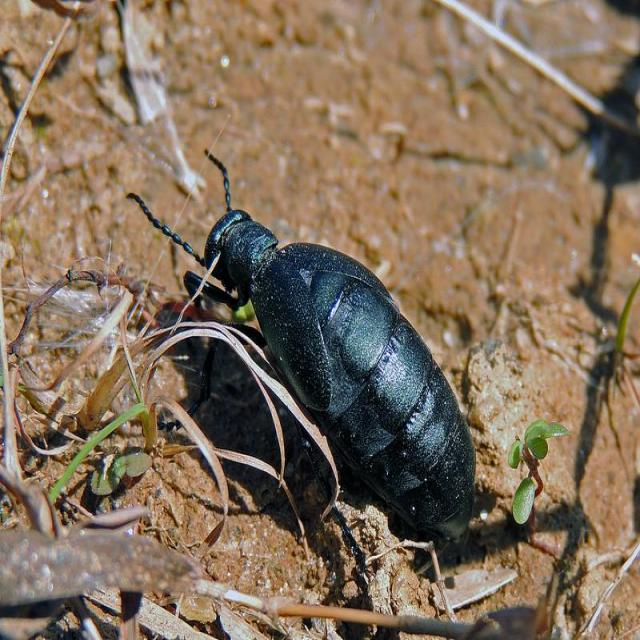BlisterBeetle-Adult-: (121, 144, 483, 546)
